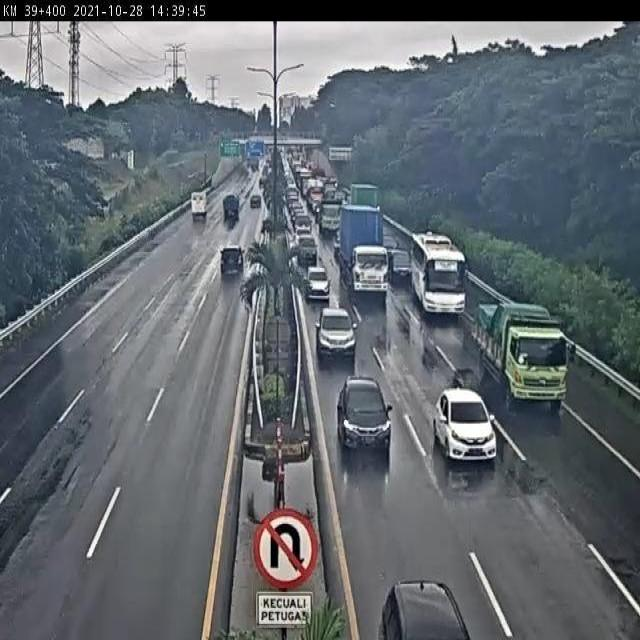Bus: (409, 230, 467, 318)
Car: (378, 578, 476, 639), (433, 388, 496, 463), (336, 375, 392, 455), (314, 307, 356, 365), (305, 265, 331, 302), (388, 244, 412, 283), (296, 232, 318, 269), (220, 246, 243, 276), (294, 214, 312, 238)
Truck: (472, 299, 566, 414), (337, 198, 387, 298), (320, 202, 342, 235), (191, 191, 206, 219), (223, 193, 239, 219)
